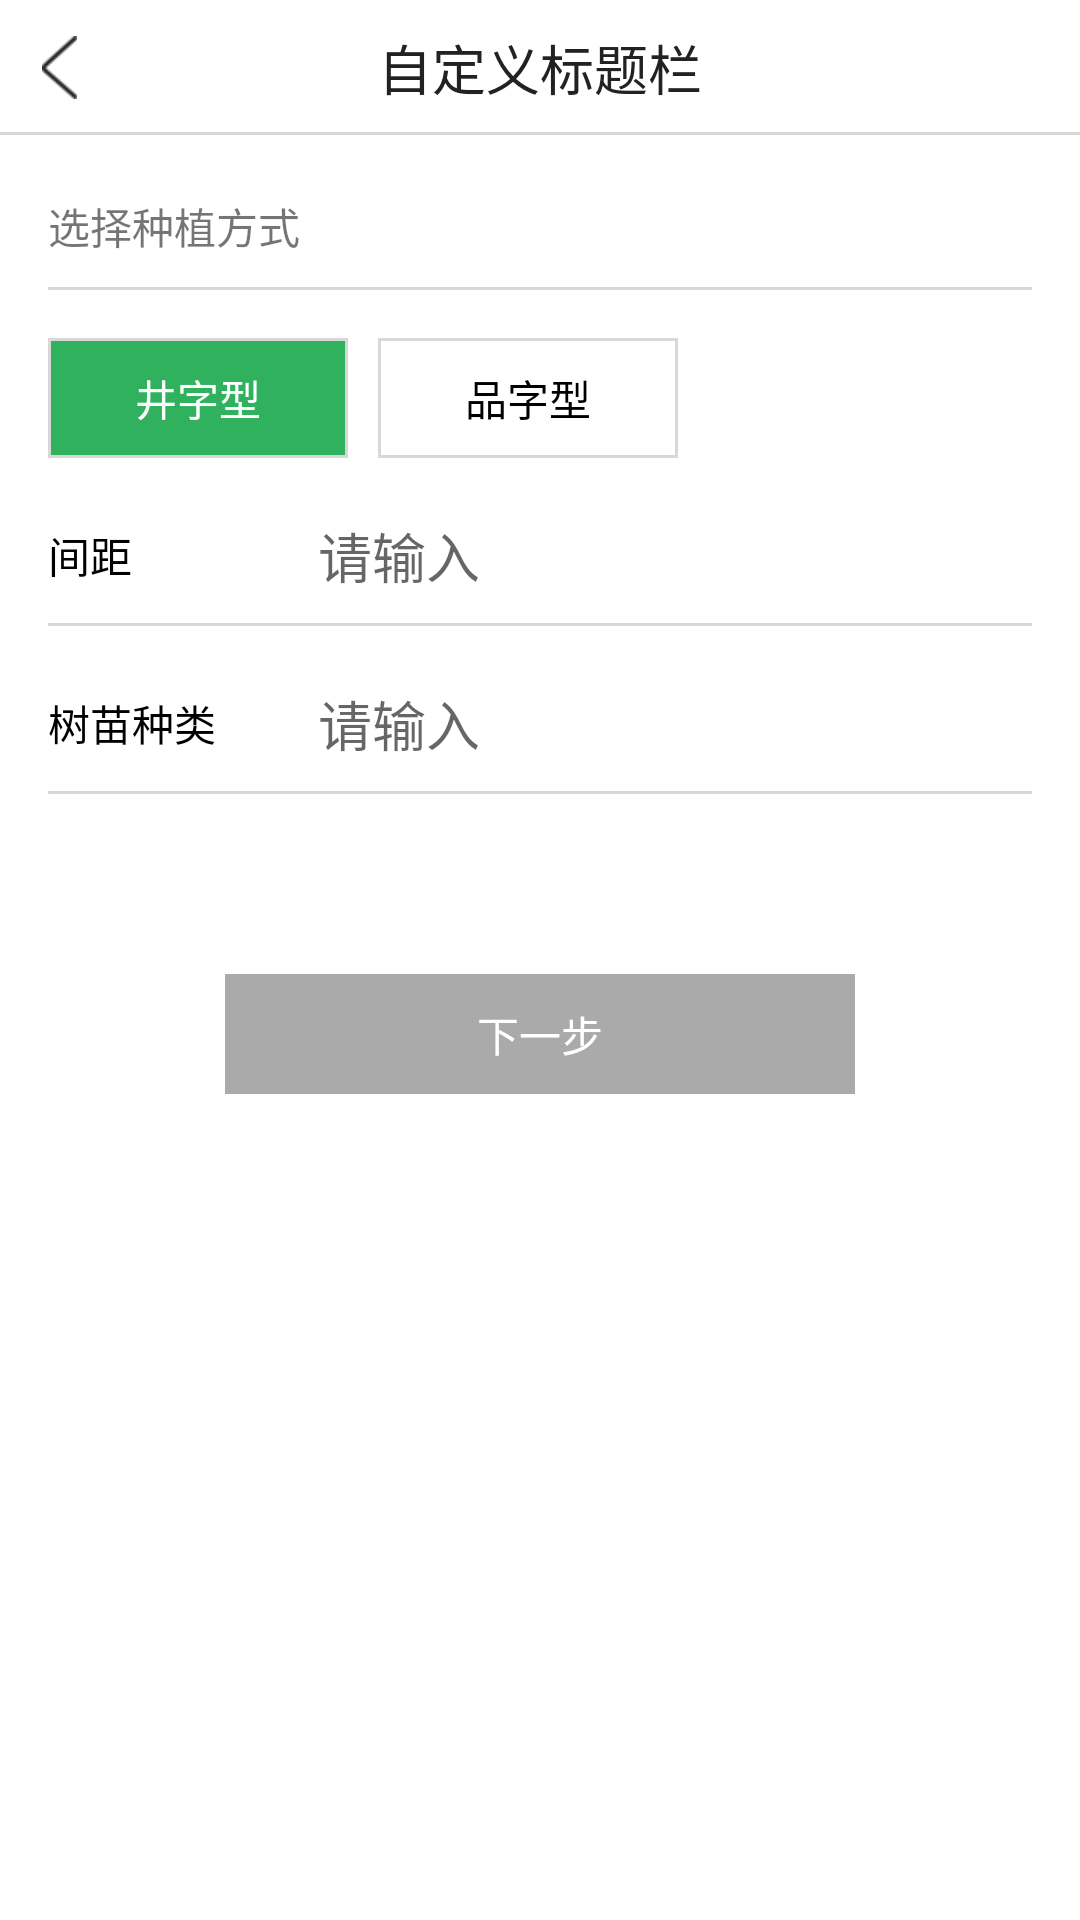

Where icons sit on this 1080*1920 app screen, as bbox=[x1, y1, x2, y2]:
back: bbox=[42, 36, 77, 99]
